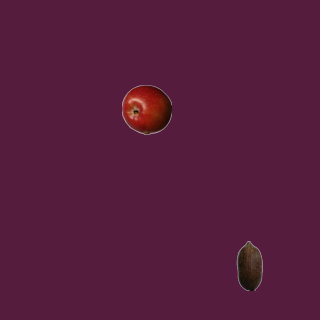Apple Braeburn: (121, 84, 171, 134)
Nut Pecan: (224, 240, 274, 290)
